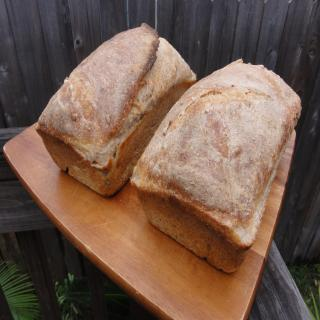Bread: (129, 63, 294, 272), (36, 22, 198, 194)
